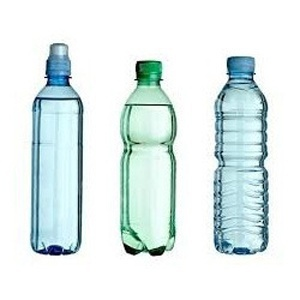emptybottle: (30, 43, 82, 255), (120, 62, 175, 256), (215, 58, 268, 254)
